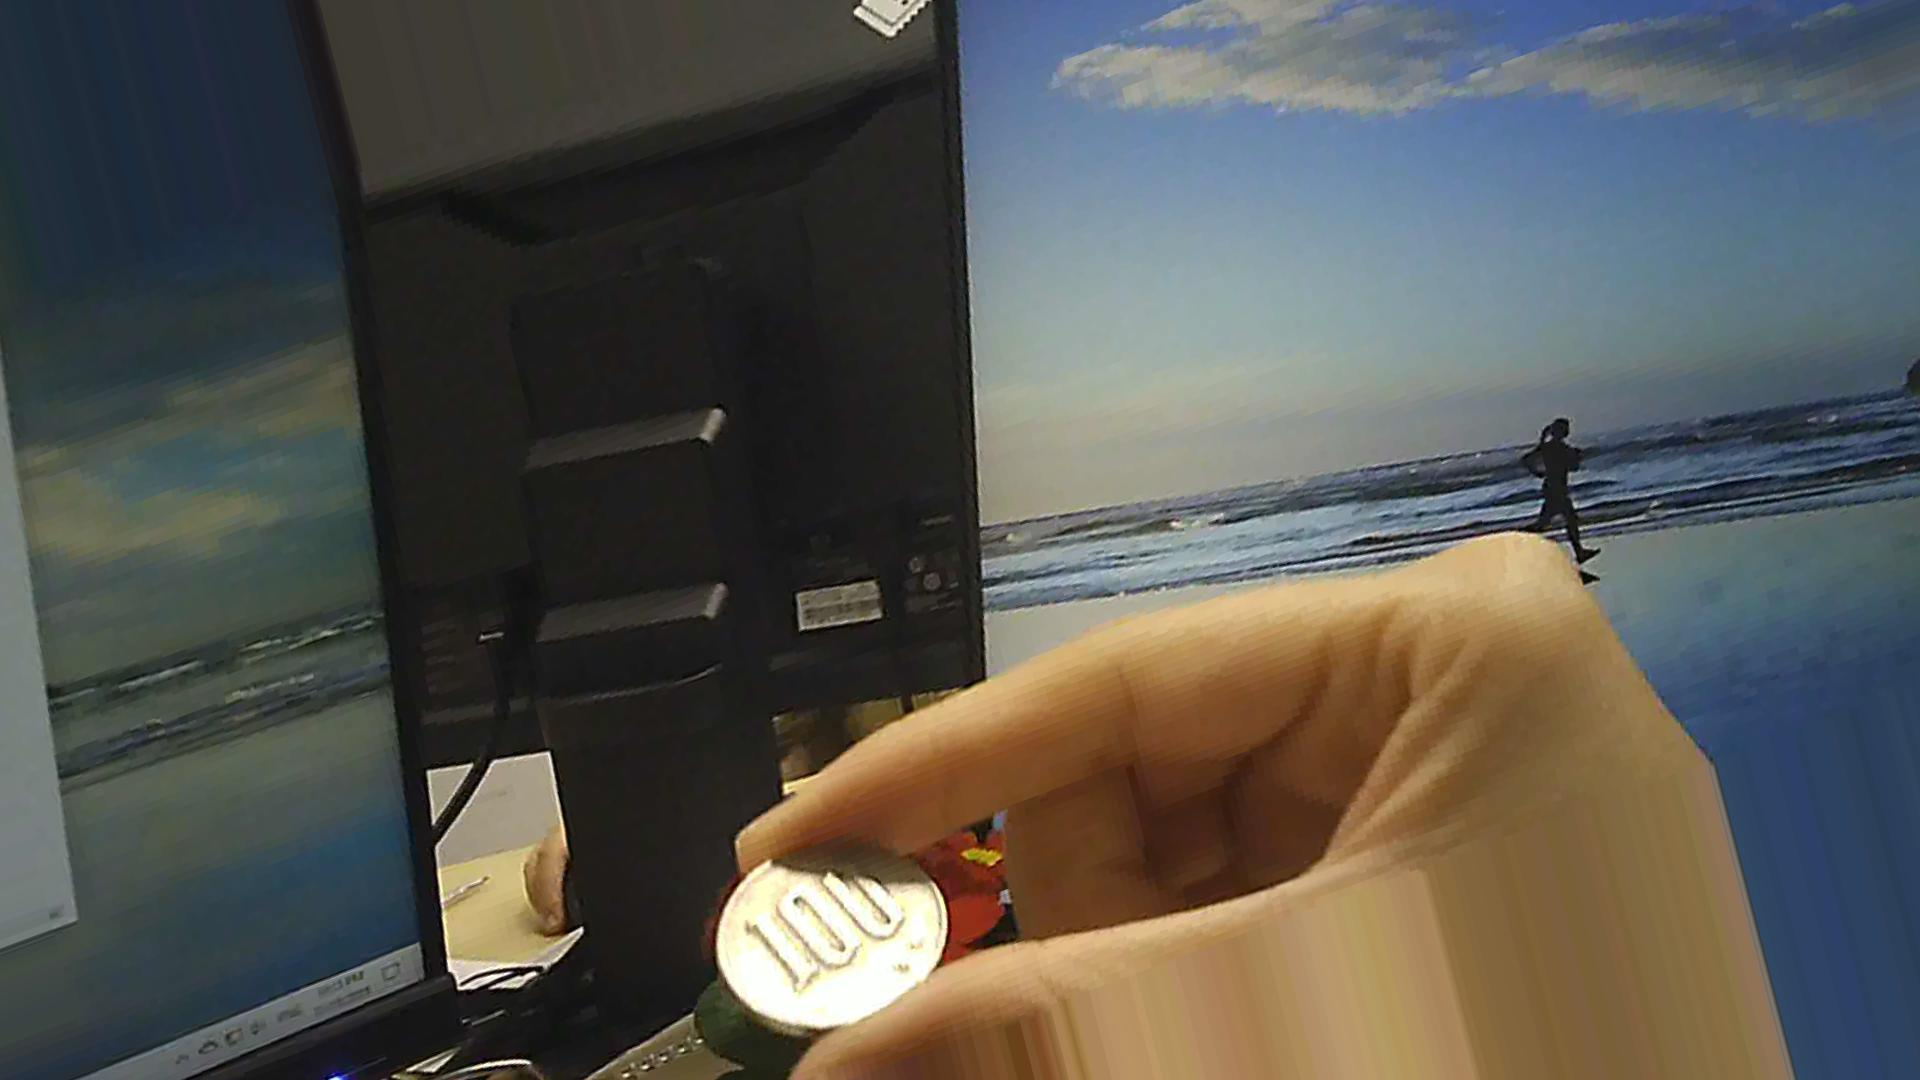100 Yen: (708, 835, 952, 1035)
